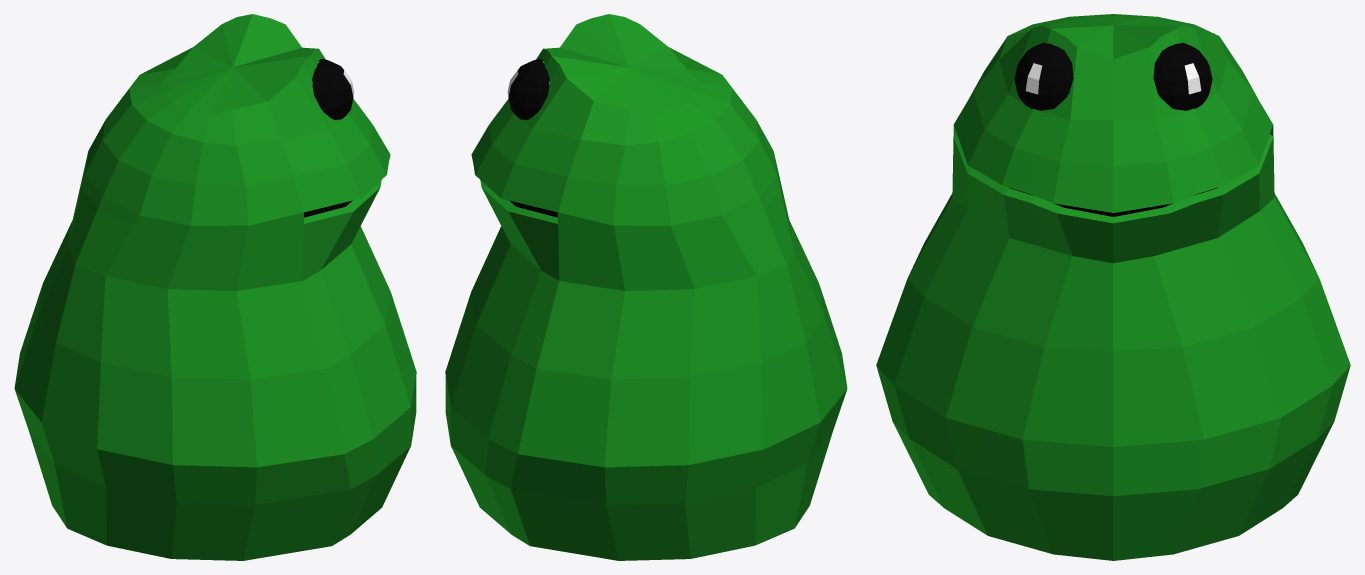
The model's file is frog.glb.
The picture shows the model from 3 angles, left to right: view 1: azimuth 30°, elevation 25°; view 2: azimuth 150°, elevation 25°; view 3: azimuth 270°, elevation 25°; orthographic projection. The views are drawn at different scales.
Visible parts, largest first — view 1: FrogTotem; view 2: FrogTotem; view 3: FrogTotem.
Boxes of the visible parts, bbox=[...] form: FrogTotem: bbox=[14, 14, 416, 560]; FrogTotem: bbox=[445, 14, 847, 560]; FrogTotem: bbox=[876, 14, 1350, 560].
Size of the model in its own units: 1.89 by 2.29 by 2.03.
Materials: 1 (1 with a texture image).
